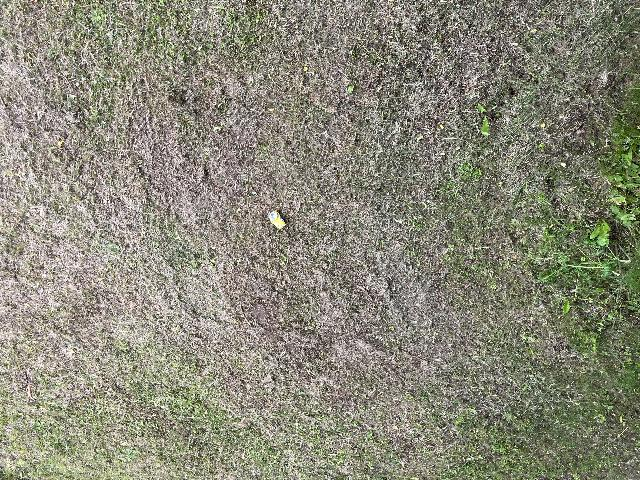can: (268, 209, 287, 231)
